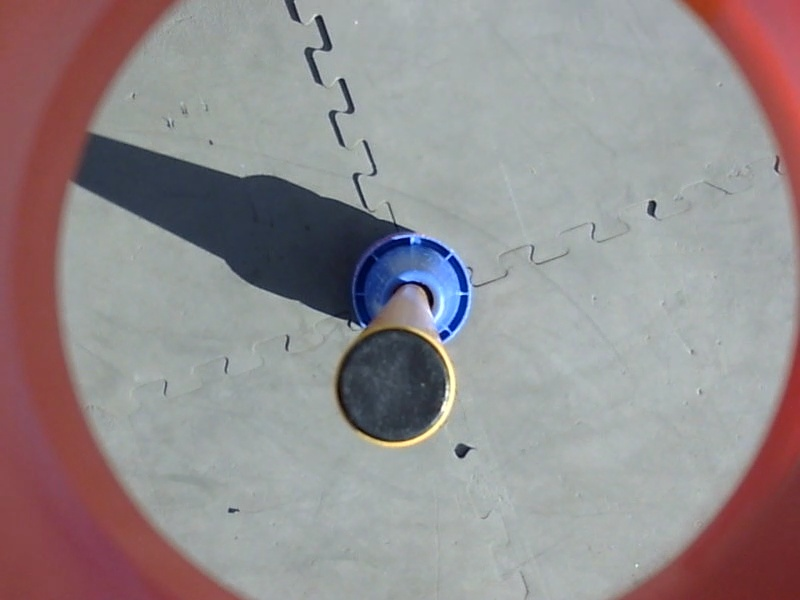tip: (329, 320, 462, 458)
